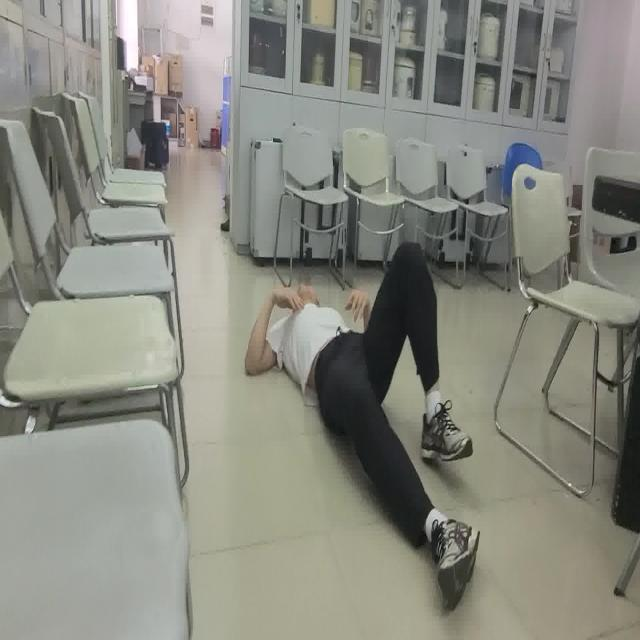fall: (242, 240, 480, 610)
